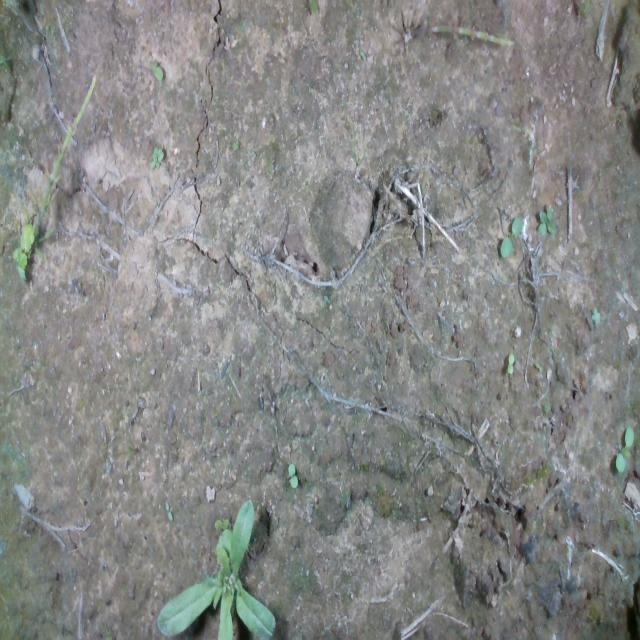weed: (615, 423, 635, 471), (500, 214, 518, 252), (147, 144, 165, 170), (283, 460, 299, 488), (151, 56, 163, 82), (504, 350, 516, 372), (587, 305, 600, 323)
